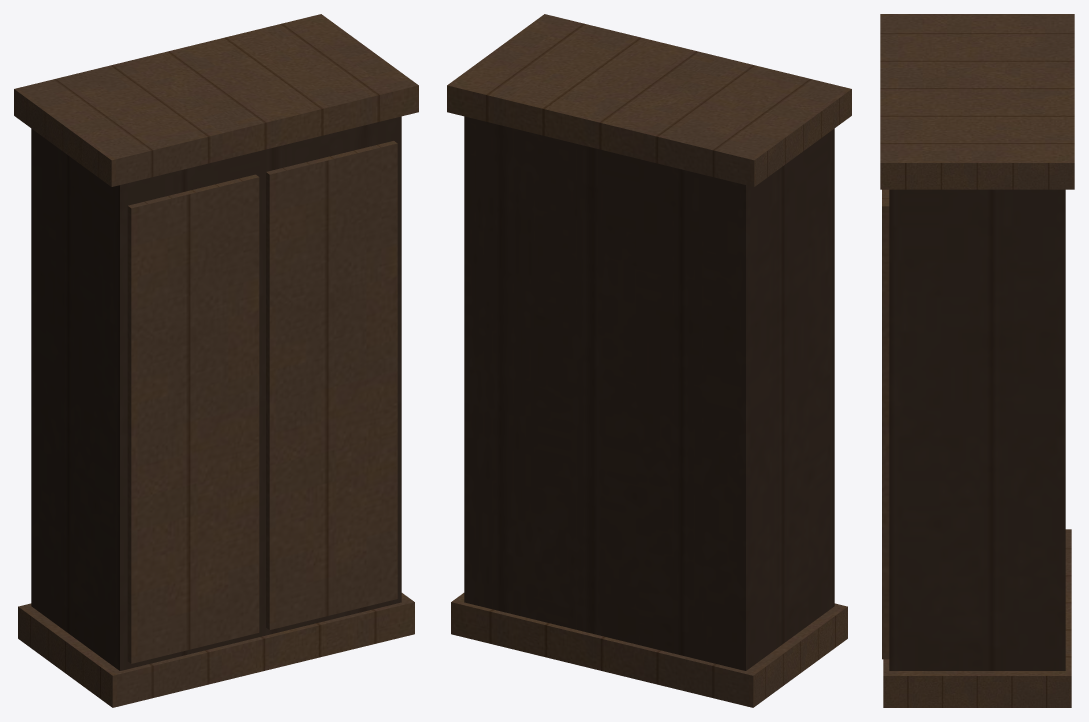
Rendered from wardrobe_lod2.glb.
3 renders of one model, left to right at view 1: azimuth 30°, elevation 25°; view 2: azimuth 150°, elevation 25°; view 3: azimuth 270°, elevation 25°, orthographic.
Visible parts, largest first — view 1: wardrobe; view 2: wardrobe; view 3: wardrobe.
Part boxes in pixels (x1,y1,x2,y2): wardrobe: (14, 14, 418, 707); wardrobe: (447, 14, 851, 707); wardrobe: (880, 14, 1074, 707).
Size of the model in its own units: 1.2 by 2.05 by 0.66.
1 material, 1 textured.
